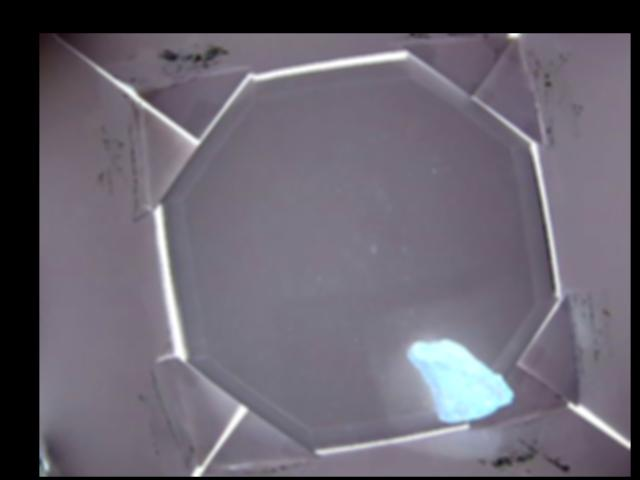Brisk: (410, 339, 515, 422)
